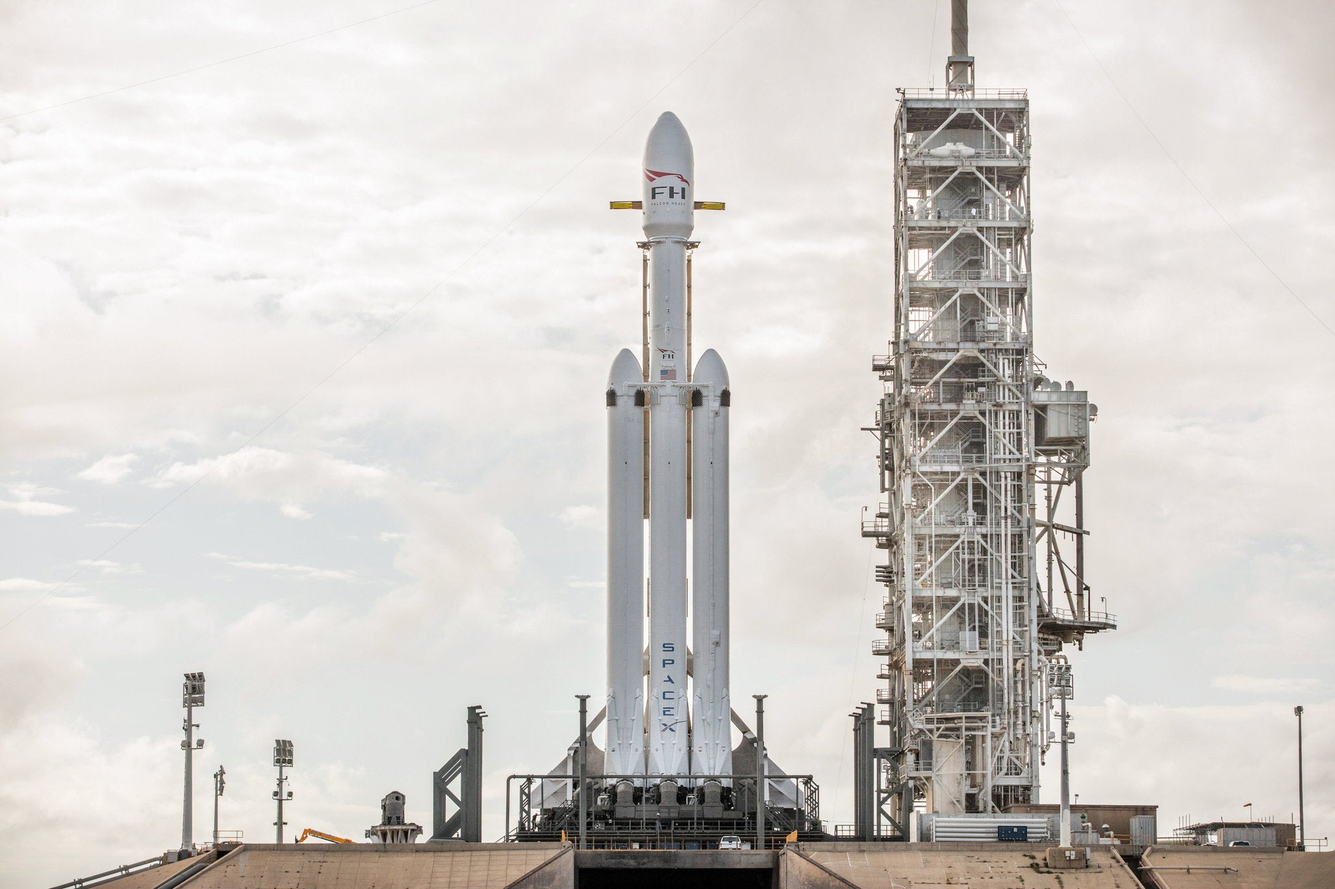falcon: (600, 113, 735, 789)
